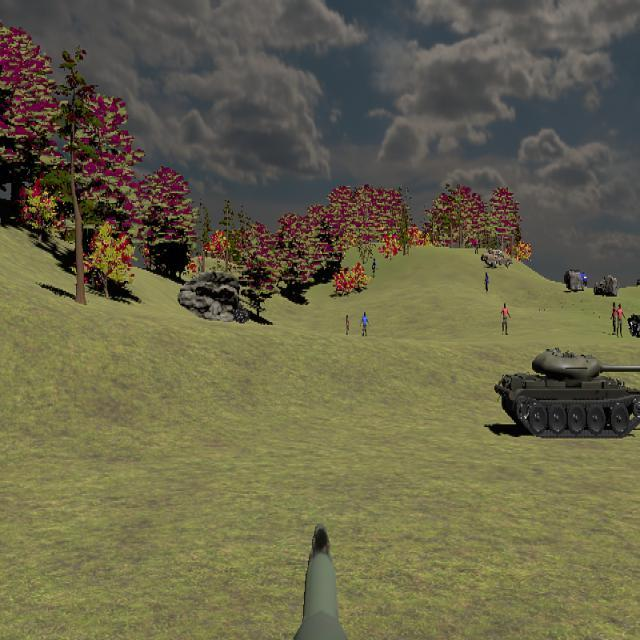Tank: (494, 347, 640, 440), (628, 311, 640, 338)
car: (481, 248, 511, 268)
